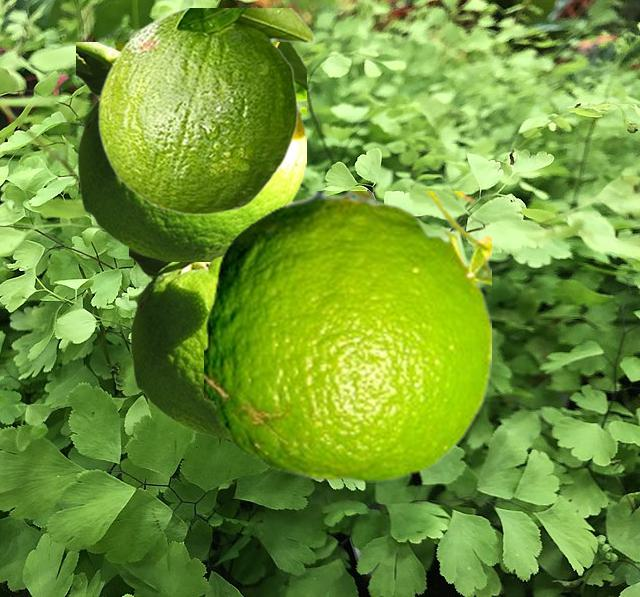dalandan: (204, 191, 490, 481), (76, 42, 305, 260), (97, 8, 314, 214), (129, 250, 224, 436)
